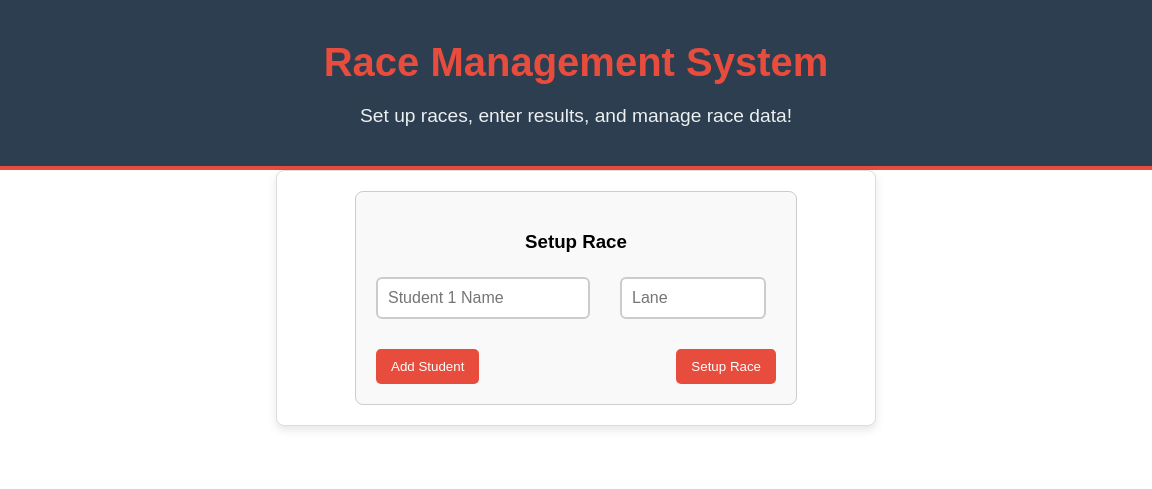
Test: Race Setup › should not allow submitting without at least two students
Click the button with class "submit-btn". click: (726, 367)
box: [676, 349, 776, 384]
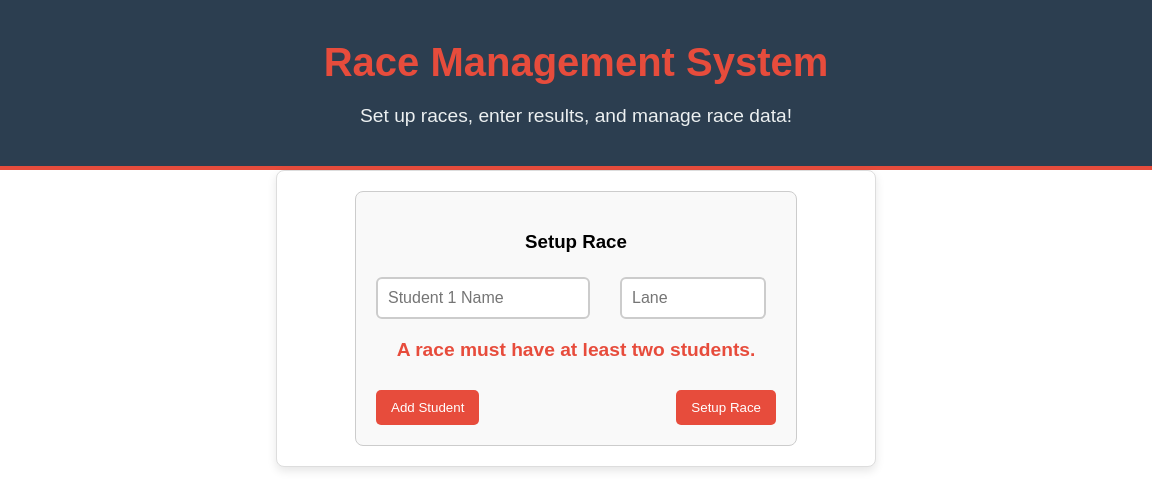
expect the text with class "error-message" reads "A race must have at least two students.": met, box [397, 339, 756, 360]
